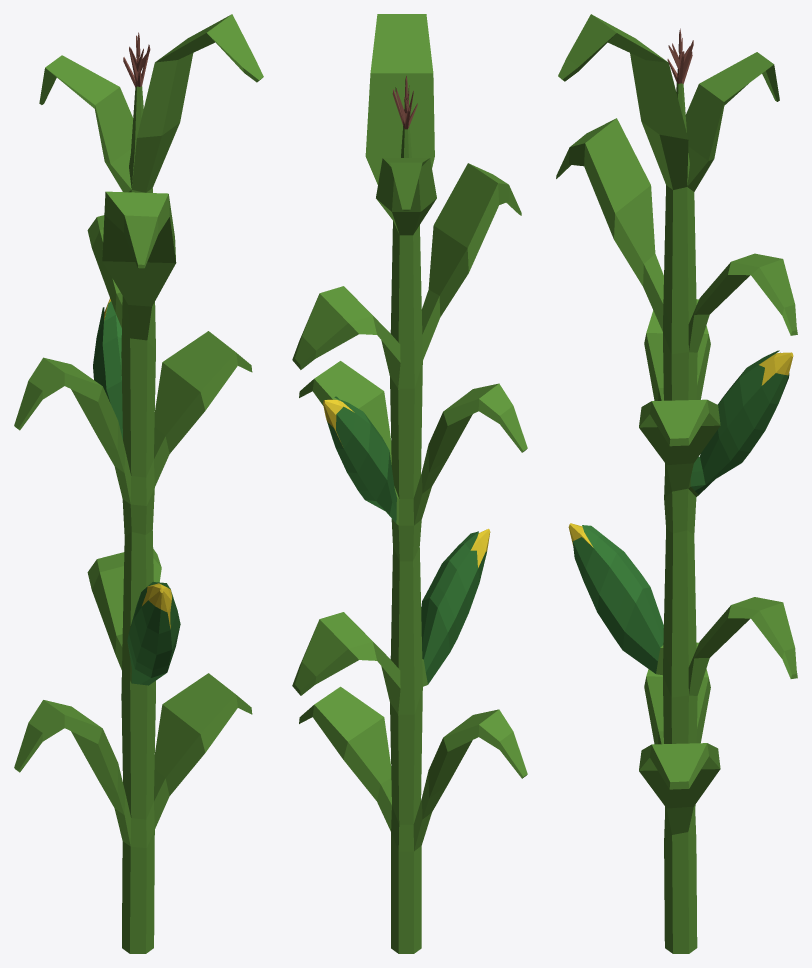
Rendered from 5-corn.glb.
3 renders of one model, left to right at view 1: azimuth 30°, elevation 25°; view 2: azimuth 150°, elevation 25°; view 3: azimuth 270°, elevation 25°, orthographic. The views are drawn at different scales.
Parts seen in each view (by area): view 1: corn; view 2: corn; view 3: corn.
Boxes of the visible parts, <box> form: corn: <box>14,14,263,953</box>; corn: <box>292,14,527,953</box>; corn: <box>556,14,797,953</box>.
Size of the model in its own units: 1.37 by 5.3 by 1.23.
